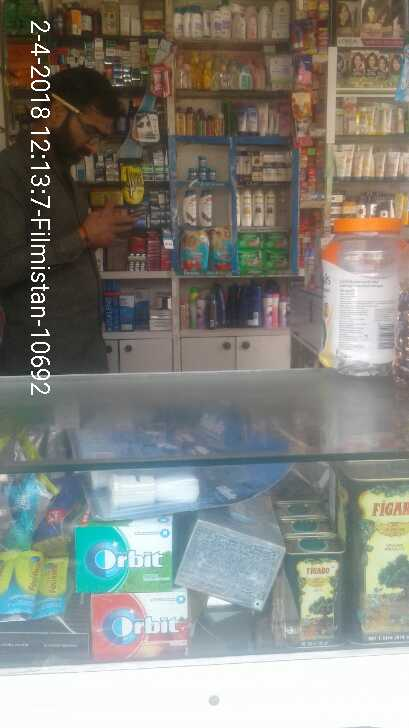vicks: (187, 153, 220, 181)
